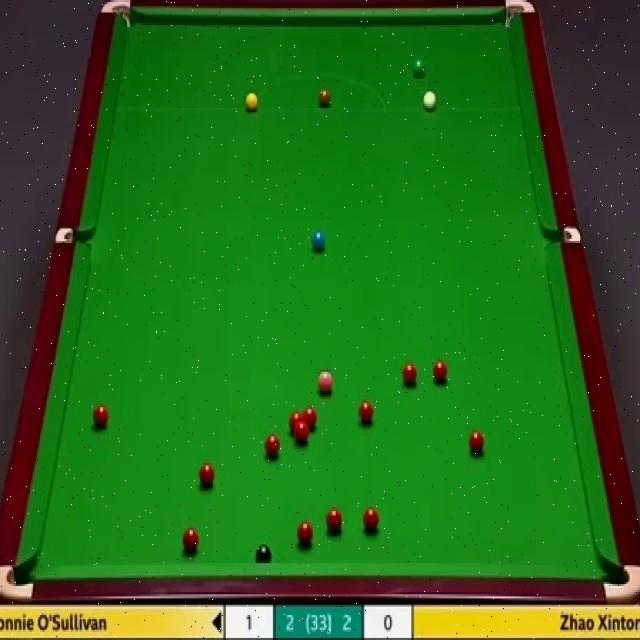black-ball: (255, 545, 272, 562)
blue-ball: (310, 229, 324, 252)
brown-ball: (318, 88, 332, 108)
green-ball: (413, 56, 425, 76)
pink-ball: (316, 370, 334, 392)
red-ball: (468, 430, 487, 458), (263, 432, 282, 459), (182, 525, 200, 552), (325, 508, 343, 535), (198, 462, 216, 488), (294, 420, 310, 448), (296, 520, 313, 546), (301, 405, 318, 430), (432, 358, 447, 385), (359, 399, 374, 424), (363, 508, 380, 530), (92, 406, 109, 428), (290, 411, 304, 436), (403, 363, 418, 385)
white-ball: (422, 90, 436, 110)
yellow-ball: (243, 92, 259, 112)
